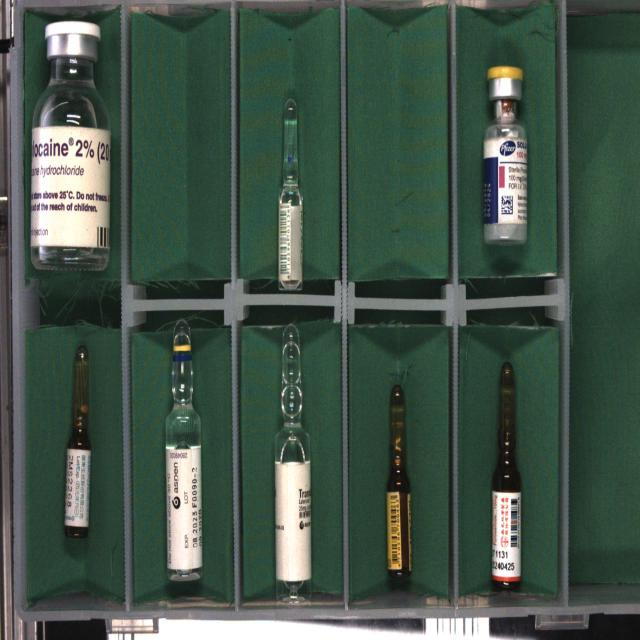Vials: (30, 21, 110, 270), (482, 66, 527, 244)
